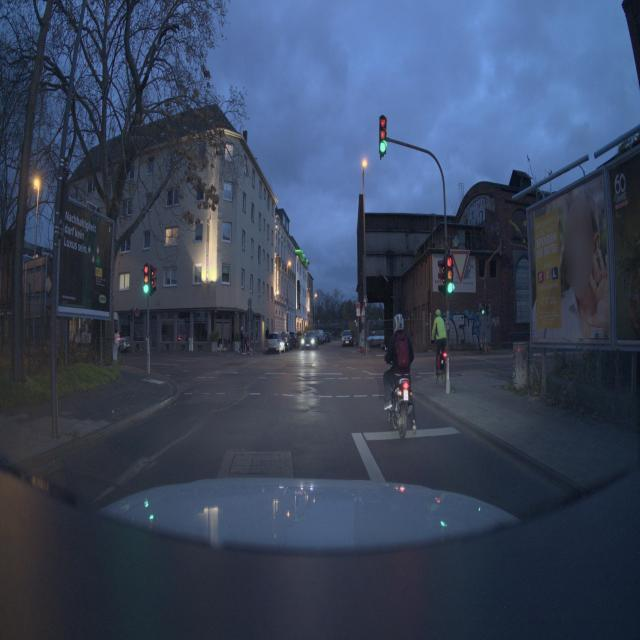Green: (366, 102, 408, 180), (133, 250, 168, 305), (441, 250, 462, 314)
